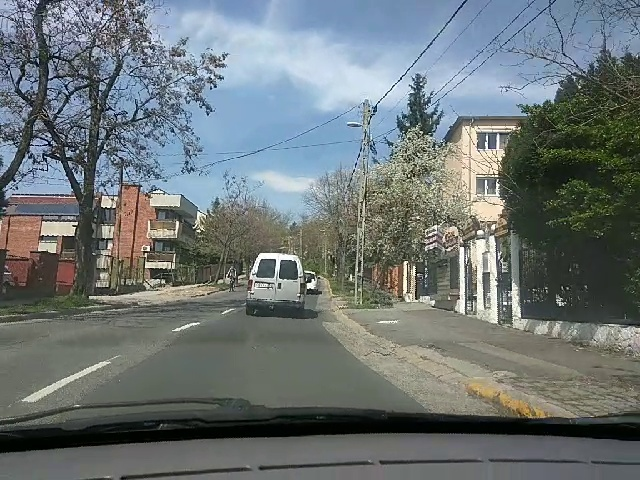car: (239, 246, 322, 315)
